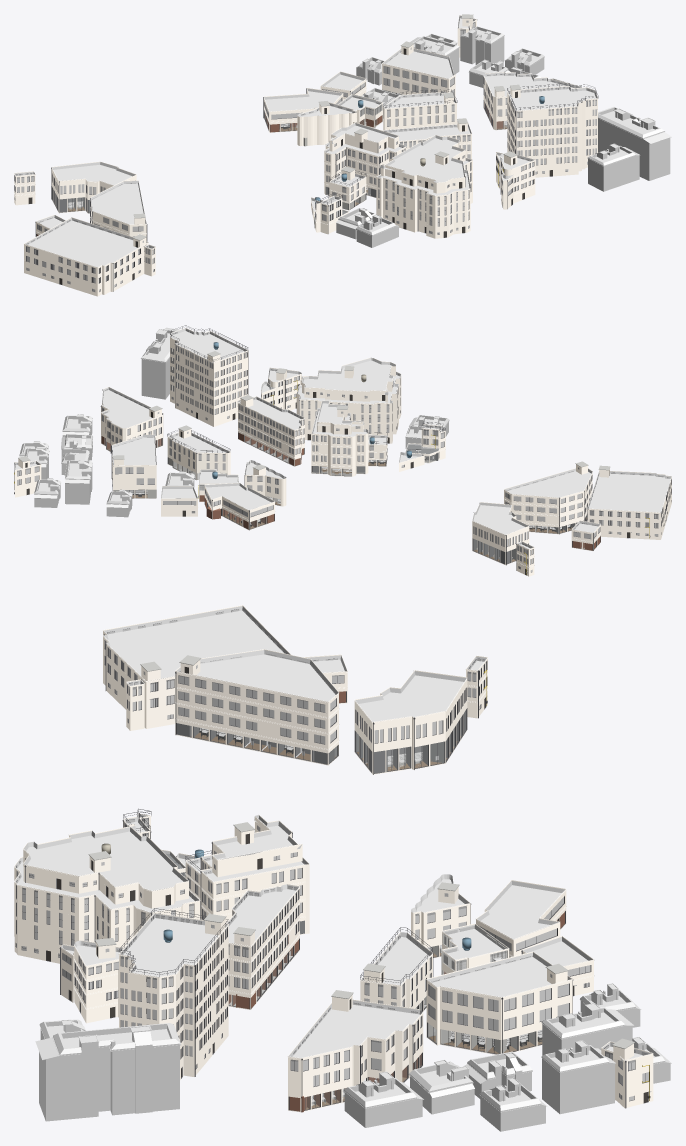
3 renders of one model, top to bottom at view 1: azimuth 30°, elevation 25°; view 2: azimuth 150°, elevation 25°; view 3: azimuth 270°, elevation 25°, orthographic. The views are drawn at different scales.
Visible parts, largest first — view 1: 서울특별시 광진구 자양동 236-156, 서울특별시 광진구 자양동 238-10.001, 서울특별시 성동구 성수동2가 233-1, 서울특별시 광진구 자양동 236-155, 서울특별시 광진구 자양동 238-3, 서울특별시 광진구 자양동 238-1, 서울특별시 성동구 성수동2가 236-59.001, 서울특별시 광진구 자양동 238-14, 서울특별시 성동구 성수동2가 235-1, 서울특별시 광진구 자양동 236-147, 서울특별시 광진구 자양동 238-7, 서울특별시 광진구 자양동 238-16 (+16 smaller); view 2: 서울특별시 광진구 자양동 238-10.001, 서울특별시 광진구 자양동 236-156, 서울특별시 성동구 성수동2가 233-1, 서울특별시 성동구 성수동2가 235-1, 서울특별시 광진구 자양동 236-155, 서울특별시 광진구 자양동 236-127, 서울특별시 성동구 성수동2가 236-59.001, 서울특별시 광진구 자양동 238-7, 서울특별시 광진구 자양동 238-1, 서울특별시 광진구 자양동 236-147, 서울특별시 광진구 자양동 238-14, 서울특별시 광진구 자양동 238-3 (+19 smaller); view 3: 서울특별시 광진구 자양동 236-156, 서울특별시 성동구 성수동2가 235-1, 서울특별시 광진구 자양동 238-10.001, 서울특별시 광진구 자양동 238-3, 서울특별시 광진구 자양동 238-1, 서울특별시 광진구 자양동 238-7, 서울특별시 성동구 성수동2가 233-1, 서울특별시 성동구 성수동2가 236-59.001, 서울특별시 광진구 자양동 236-155, 서울특별시 광진구 자양동 236-127, 서울특별시 광진구 자양동 236-147, 서울특별시 광진구 자양동 236-85.001 (+16 smaller).
Boxes of the visible parts, bbox=[...] form: 서울특별시 광진구 자양동 236-156: bbox=[376, 135, 472, 238]; 서울특별시 광진구 자양동 238-10.001: bbox=[507, 83, 598, 177]; 서울특별시 성동구 성수동2가 233-1: bbox=[24, 217, 148, 296]; 서울특별시 광진구 자양동 236-155: bbox=[324, 122, 406, 197]; 서울특별시 광진구 자양동 238-3: bbox=[598, 107, 671, 180]; 서울특별시 광진구 자양동 238-1: bbox=[382, 48, 455, 98]; 서울특별시 성동구 성수동2가 236-59.001: bbox=[51, 161, 136, 213]; 서울특별시 광진구 자양동 238-14: bbox=[383, 89, 457, 129]; 서울특별시 성동구 성수동2가 235-1: bbox=[90, 180, 147, 241]; 서울특별시 광진구 자양동 236-147: bbox=[263, 88, 343, 132]; 서울특별시 광진구 자양동 238-7: bbox=[483, 72, 580, 130]; 서울특별시 광진구 자양동 238-16: bbox=[587, 143, 640, 191]; 서울특별시 광진구 자양동 238-10.001: bbox=[170, 325, 248, 426]; 서울특별시 광진구 자양동 236-156: bbox=[296, 357, 401, 443]; 서울특별시 성동구 성수동2가 233-1: bbox=[587, 470, 671, 539]; 서울특별시 성동구 성수동2가 235-1: bbox=[503, 468, 592, 534]; 서울특별시 광진구 자양동 236-155: bbox=[311, 400, 368, 476]; 서울특별시 광진구 자양동 236-127: bbox=[237, 396, 304, 466]; 서울특별시 성동구 성수동2가 236-59.001: bbox=[472, 502, 529, 565]; 서울특별시 광진구 자양동 238-7: bbox=[100, 387, 163, 453]; 서울특별시 광진구 자양동 238-1: bbox=[111, 434, 156, 498]; 서울특별시 광진구 자양동 236-147: bbox=[204, 482, 275, 530]; 서울특별시 광진구 자양동 238-14: bbox=[167, 429, 230, 479]; 서울특별시 광진구 자양동 238-3: bbox=[141, 327, 179, 399]; 서울특별시 광진구 자양동 236-156: bbox=[14, 824, 201, 963]; 서울특별시 성동구 성수동2가 235-1: bbox=[175, 649, 339, 765]; 서울특별시 광진구 자양동 238-10.001: bbox=[118, 908, 228, 1079]; 서울특별시 광진구 자양동 238-3: bbox=[35, 1023, 181, 1121]; 서울특별시 광진구 자양동 238-1: bbox=[426, 951, 573, 1054]; 서울특별시 광진구 자양동 238-7: bbox=[287, 999, 423, 1112]; 서울특별시 성동구 성수동2가 233-1: bbox=[102, 605, 291, 728]; 서울특별시 성동구 성수동2가 236-59.001: bbox=[354, 670, 467, 774]; 서울특별시 광진구 자양동 236-155: bbox=[200, 815, 309, 934]; 서울특별시 광진구 자양동 236-127: bbox=[226, 884, 300, 1009]; 서울특별시 광진구 자양동 236-147: bbox=[476, 880, 566, 957]; 서울특별시 광진구 자양동 236-85.001: bbox=[541, 1040, 615, 1114].
Size of the model in its own units: 213 by 25.12 by 124.
